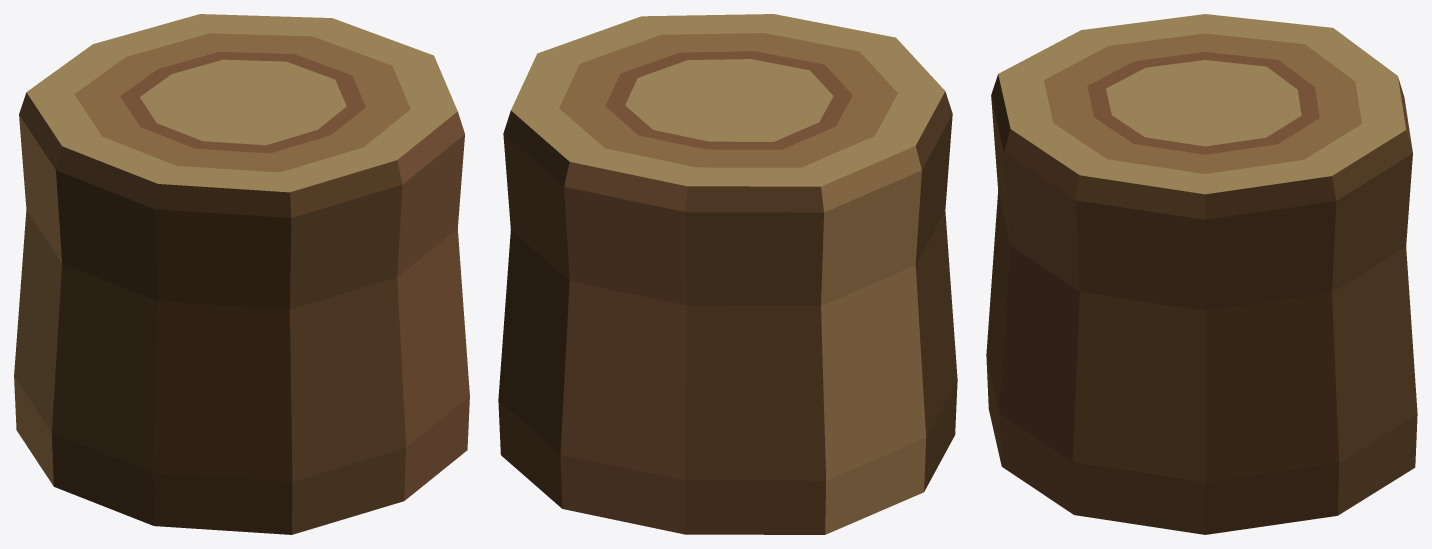
Rendered from log_chair.glb.
The picture shows the model from 3 angles, left to right: view 1: azimuth 30°, elevation 25°; view 2: azimuth 150°, elevation 25°; view 3: azimuth 270°, elevation 25°; orthographic projection. The views are drawn at different scales.
Parts seen in each view (by area): view 1: log_chair; view 2: log_chair; view 3: log_chair.
Part boxes in pixels (x1=…): log_chair: x1=14, y1=14, x2=469, y2=534; log_chair: x1=498, y1=14, x2=957, y2=534; log_chair: x1=986, y1=14, x2=1417, y2=534.
Bounding box in the file's own units: 0.9114 × 0.75 × 0.8712.
